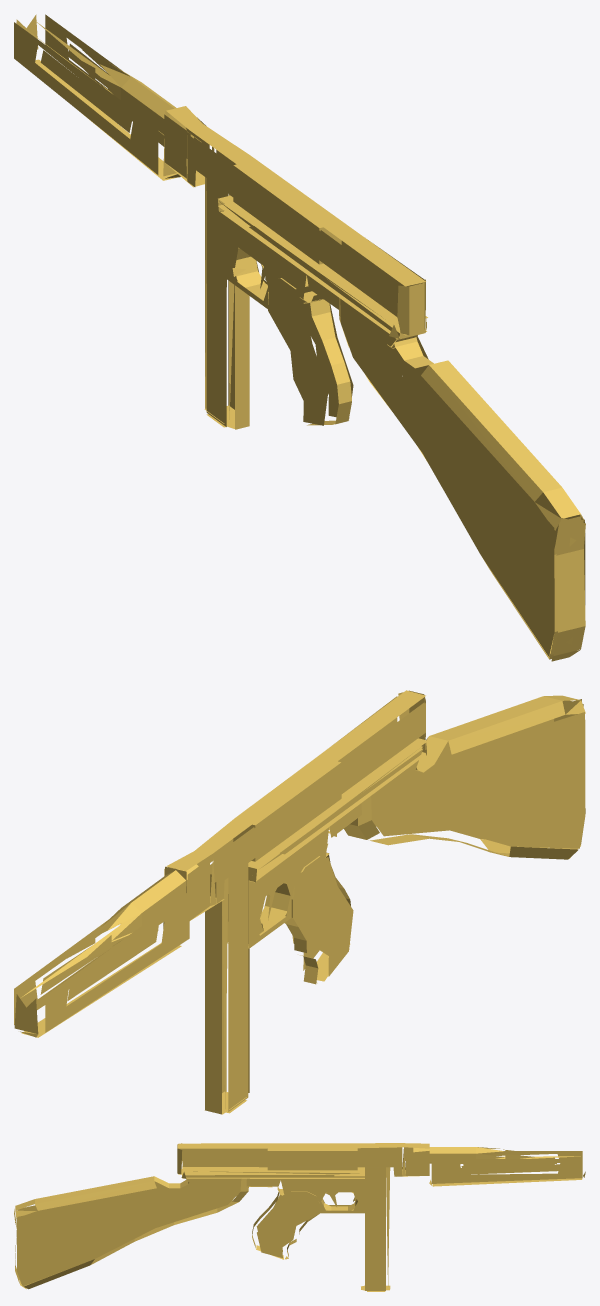
File: charm_mst_subfusil_7.glb
The picture shows the model from 3 angles, top to bottom: view 1: azimuth 30°, elevation 25°; view 2: azimuth 150°, elevation 25°; view 3: azimuth 270°, elevation 25°; orthographic projection. The views are drawn at different scales.
Visible parts, largest first — view 1: p0_paint; view 2: p0_paint; view 3: p0_paint.
Boxes of the visible parts, box(x1,y1,x2,y2) form: p0_paint: box(14, 14, 585, 661); p0_paint: box(14, 690, 585, 1114); p0_paint: box(14, 1143, 585, 1291).
Bounding box in the file's own units: 0.0325 × 0.2132 × 0.7747.
